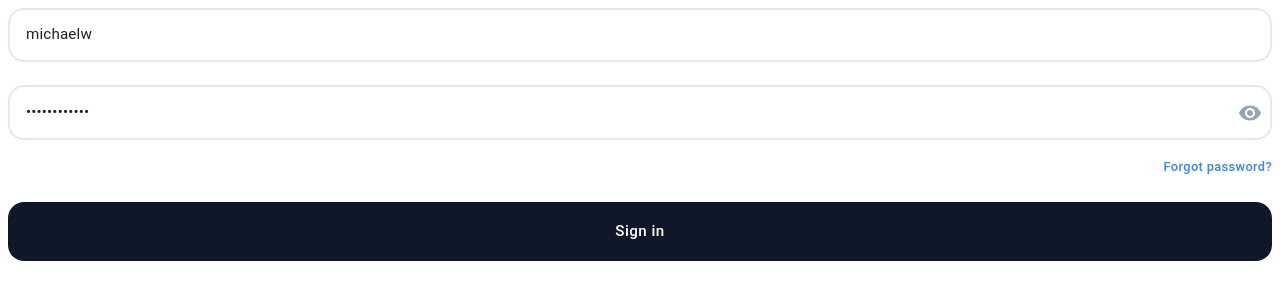
LoginForm › validates username minimum length
Replace the text in the field with placeholder "Username" with "user" at [640, 35], box 8,8 -> 1272,62
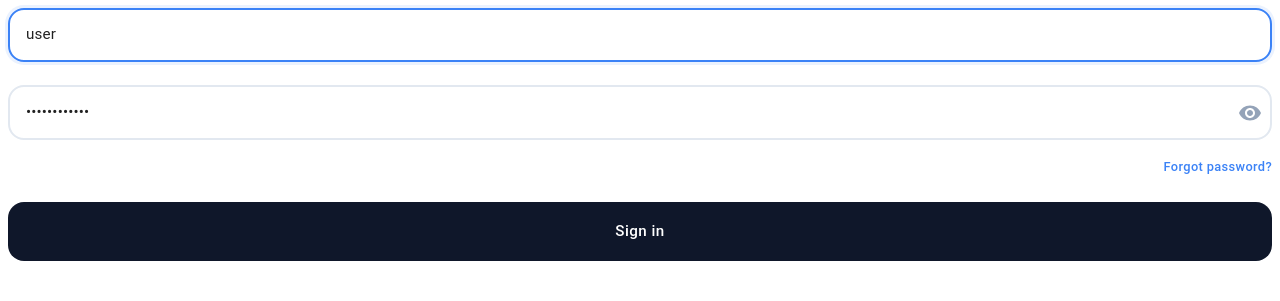
Click the button "Sign in" at [640, 231], box 8,202 -> 1272,261
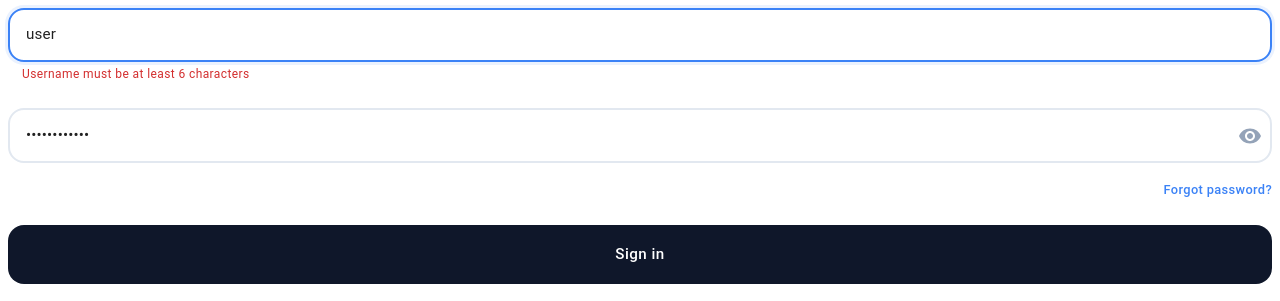
Check: the text "Username must be at least 6 characters" is shown, box 22,67 -> 250,81
